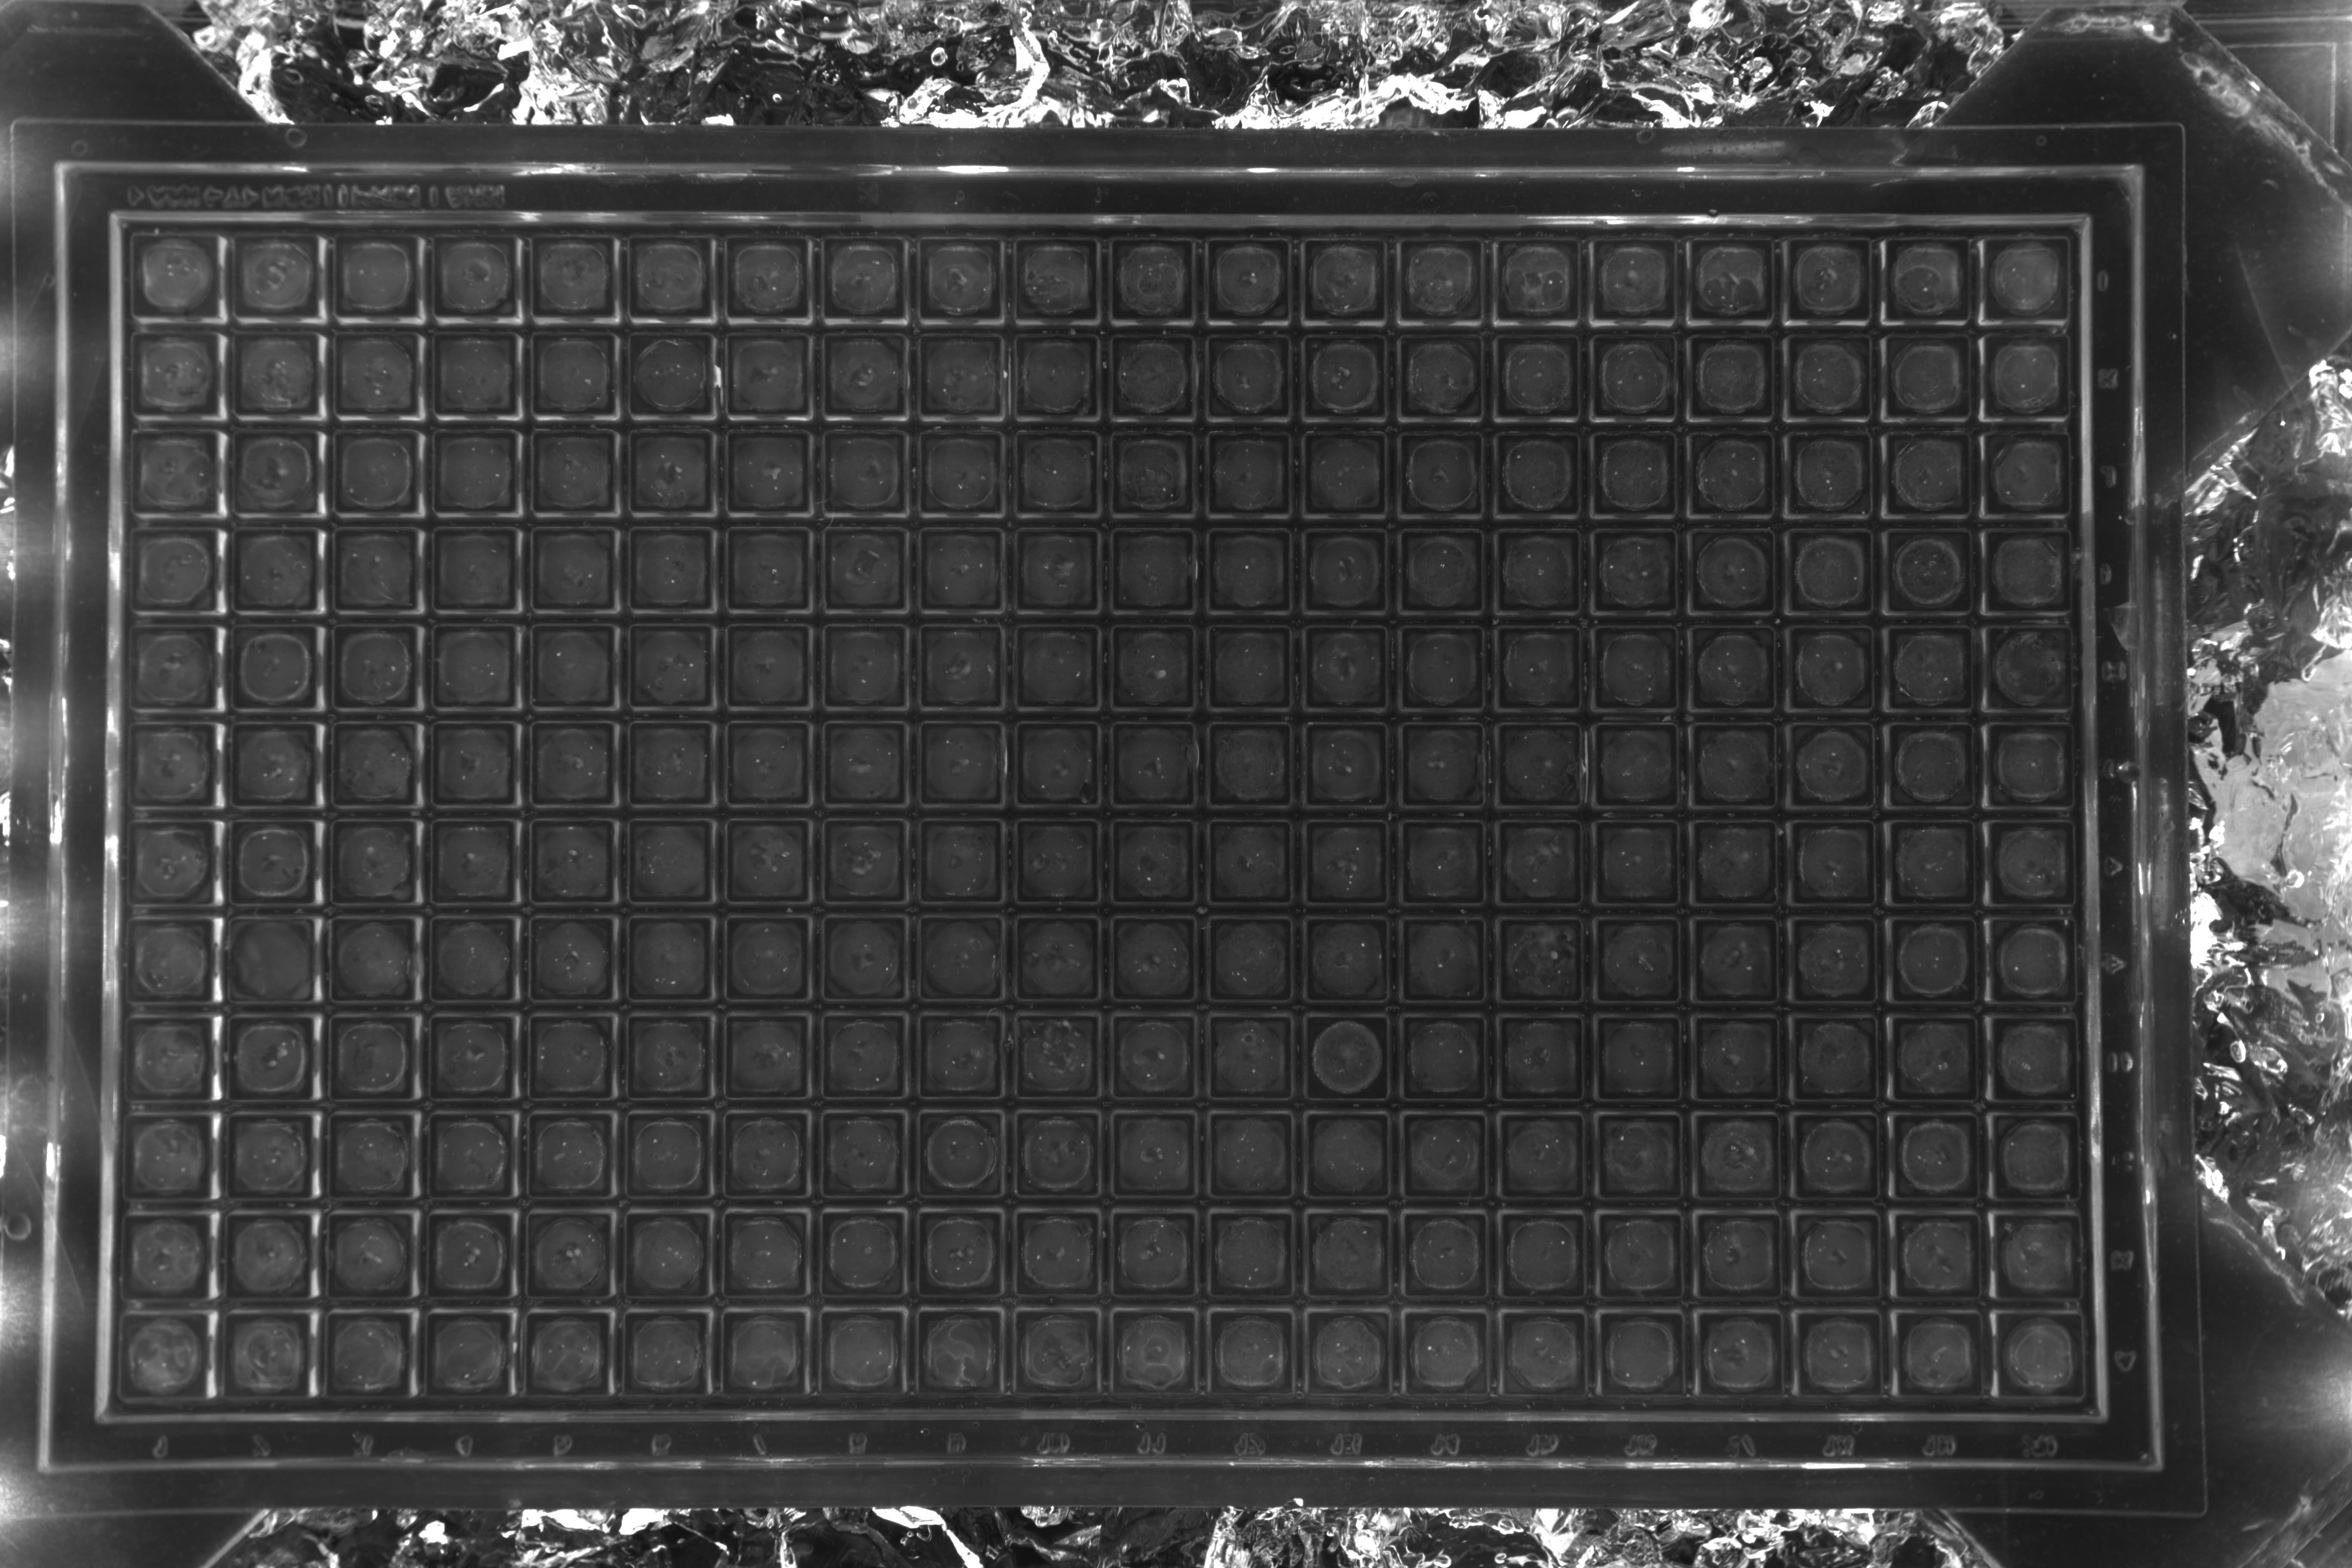WM_well: (395, 945, 485, 1032), (588, 1143, 677, 1230), (789, 558, 878, 646), (1176, 850, 1265, 938), (290, 1242, 378, 1330), (388, 1340, 476, 1428), (497, 749, 584, 836), (693, 460, 780, 548), (789, 654, 877, 742), (884, 1141, 971, 1228), (982, 1045, 1069, 1132), (1080, 1045, 1167, 1132), (1080, 947, 1167, 1034), (1176, 464, 1263, 551), (1466, 754, 1554, 842), (1468, 1046, 1556, 1134), (1568, 1244, 1655, 1332), (1664, 1048, 1752, 1136), (1762, 950, 1850, 1038), (1857, 268, 1944, 355), (1963, 1251, 2051, 1339), (2054, 268, 2142, 355), (2056, 464, 2144, 551)
